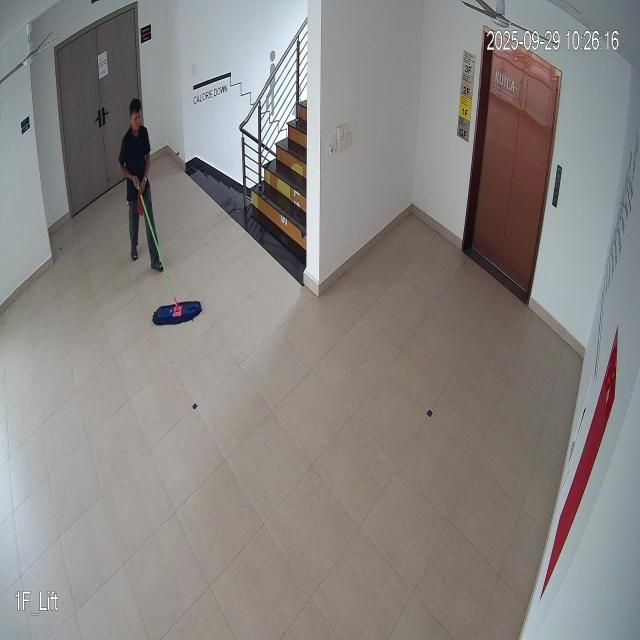face: (130, 96, 144, 136)
